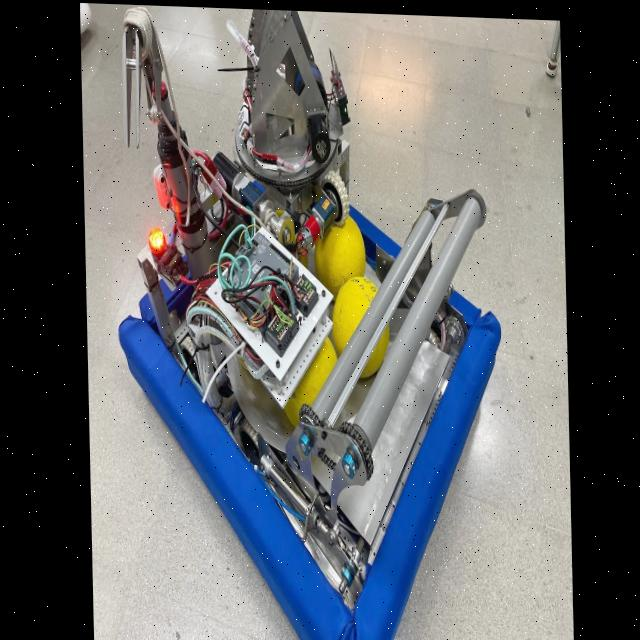robot: (107, 4, 508, 640)
